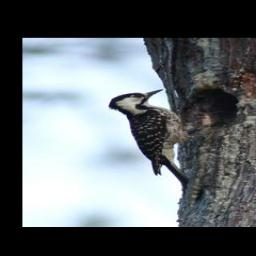Woodpecker: (106, 87, 222, 186)
